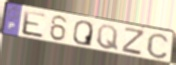6: (49, 15, 69, 42)
C: (145, 32, 170, 61)
E: (21, 9, 47, 39)
Q: (96, 24, 119, 52), (72, 20, 94, 48)
Z: (121, 26, 146, 57)
